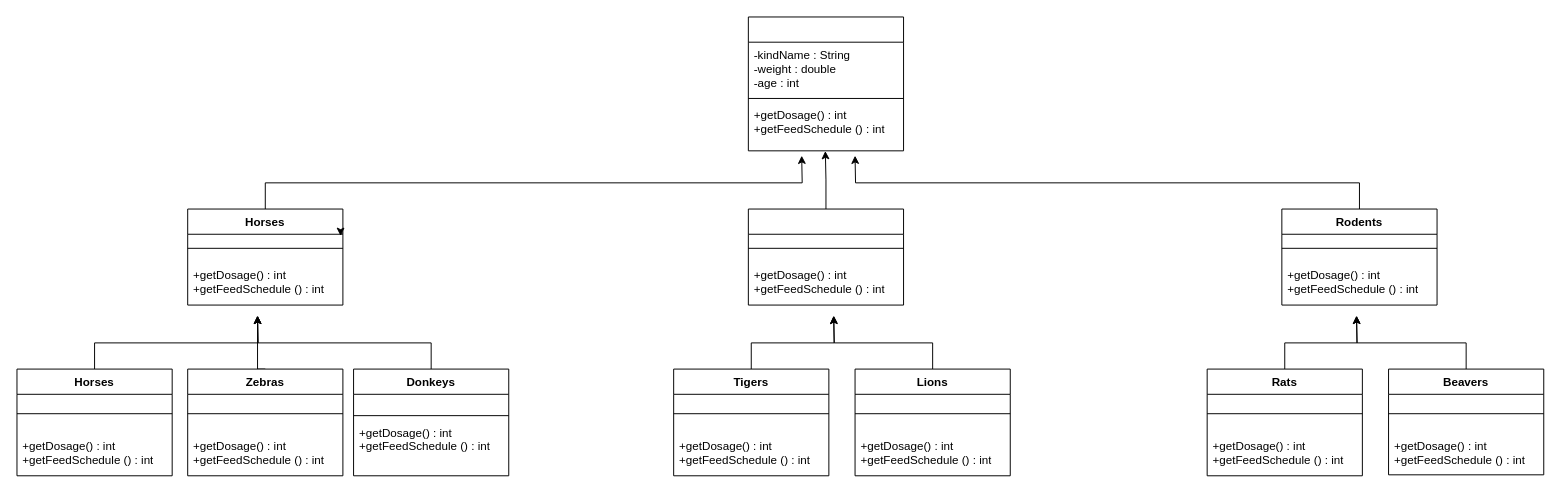
Image size: 1561x496. Some labels were removed from this diagram. The box of each missing label's shape, as (x1, y1, x2, y2) in pixels:
Animals: (747, 16, 904, 151)
Felines: (747, 208, 904, 305)
